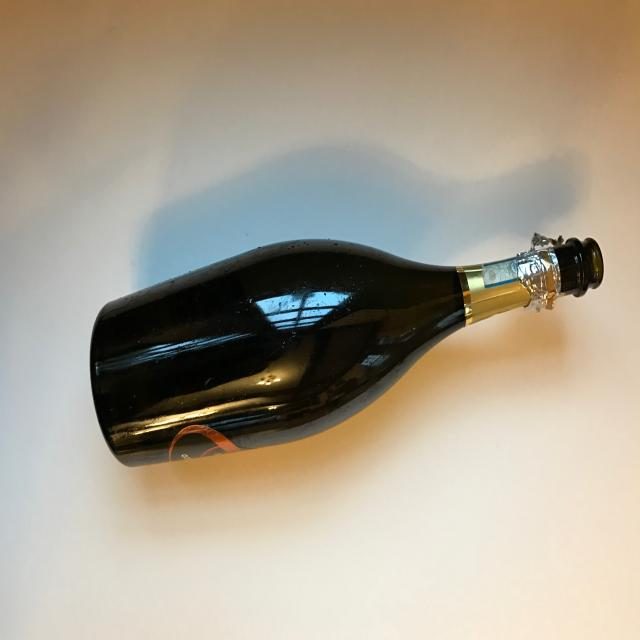glass: (89, 230, 604, 468)
